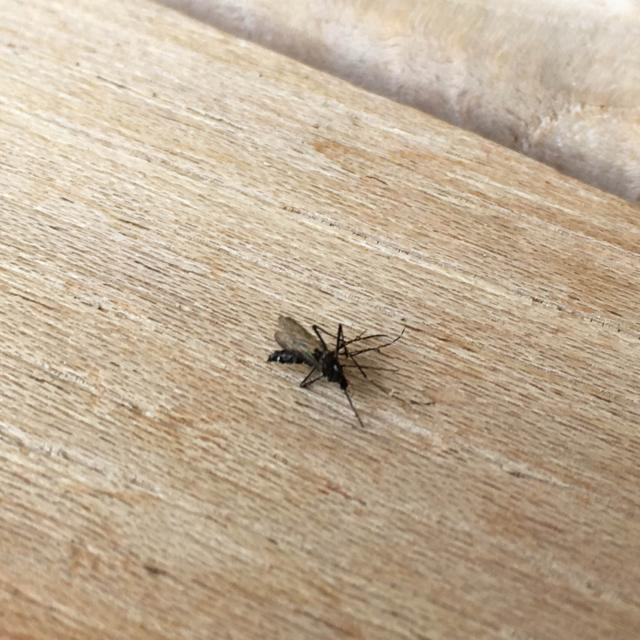albopictus: (257, 303, 413, 437)
